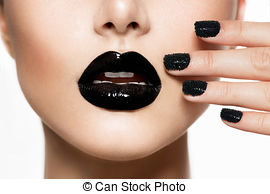face: (1, 1, 252, 166)
